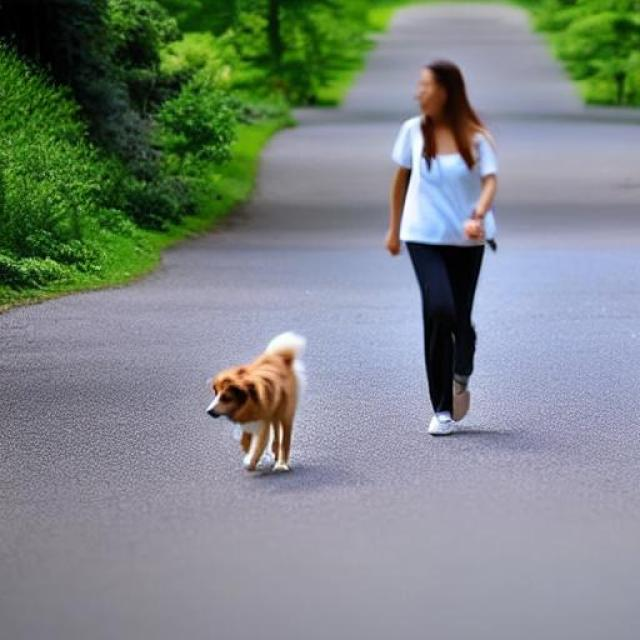Unleashed_Dog: (208, 248, 486, 472)
